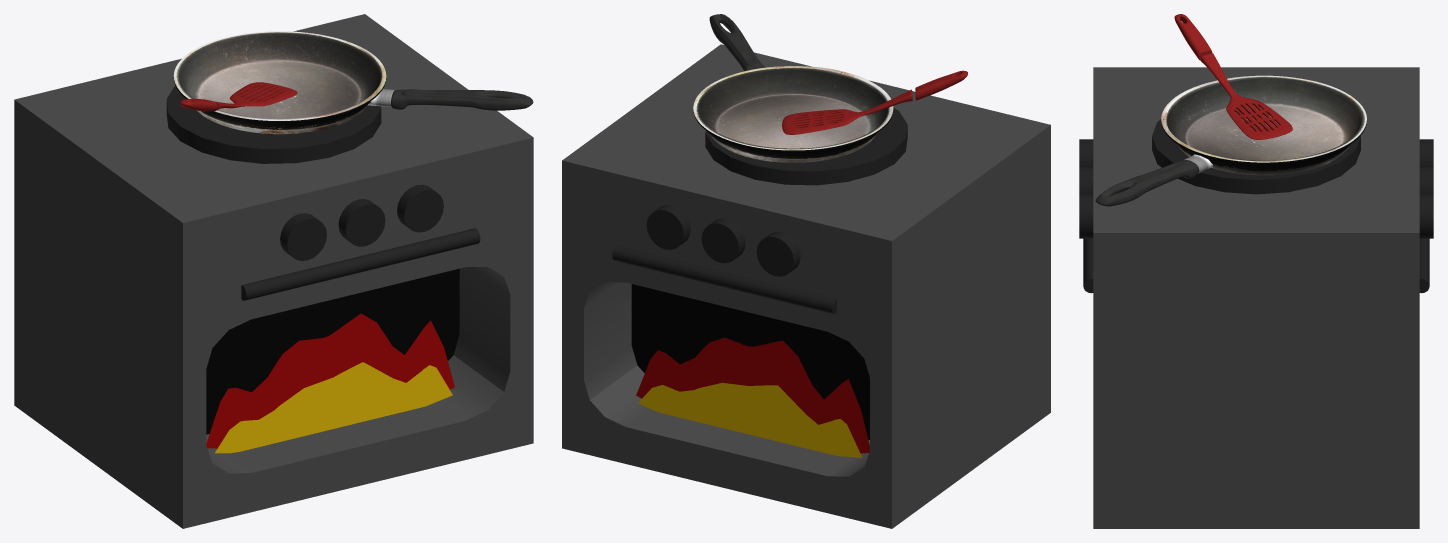
The model's file is fryingstation.fbx.
3 views of the same model, side by side, from view 1: azimuth 30°, elevation 25°; view 2: azimuth 150°, elevation 25°; view 3: azimuth 270°, elevation 25° (orthographic). The views are drawn at different scales.
Visible parts, largest first — view 1: ovenframe, Pan, ovenmiddle, nurbsToPoly3, nurbsToPoly4, hotsurface, handle2, Handle, knob3, knob2, knob6, Main; view 2: ovenframe, Pan, ovenmiddle, nurbsToPoly2, nurbsToPoly1, hotsurface, handle1, Main, knob4, knob5, knob1, Handle; view 3: ovenframe, Pan, hotsurface, Main, Handle, knob3, knob1, handle1, handle2, knob5, knob6, knob2 (+1 smaller).
Boxes of the visible parts, box(x1,y1,x2,y2) form: ovenframe: box(14, 14, 533, 528); Pan: box(173, 31, 386, 134); ovenmiddle: box(206, 268, 459, 434); nurbsToPoly3: box(206, 313, 454, 448); nurbsToPoly4: box(215, 362, 452, 453); hotsurface: box(166, 85, 381, 163); handle2: box(241, 228, 480, 300); Handle: box(391, 89, 533, 110); knob3: box(397, 184, 443, 232); knob2: box(338, 199, 385, 246); knob6: box(280, 213, 326, 260); Main: box(180, 82, 297, 111); ovenframe: box(562, 44, 1050, 528); Pan: box(693, 66, 893, 162); ovenmiddle: box(631, 284, 869, 439); nurbsToPoly2: box(636, 338, 869, 453); nurbsToPoly1: box(638, 382, 862, 457); hotsurface: box(705, 107, 907, 185); handle1: box(612, 246, 836, 314); Main: box(782, 70, 967, 134); knob4: box(701, 218, 745, 263); knob5: box(756, 231, 800, 276); knob1: box(646, 205, 690, 249); Handle: box(709, 14, 765, 71); ovenframe: box(1093, 67, 1419, 528); Pan: box(1161, 75, 1366, 175); hotsurface: box(1152, 119, 1360, 194); Main: box(1174, 14, 1292, 139); Handle: box(1095, 160, 1199, 206); knob3: box(1079, 194, 1093, 238); knob1: box(1419, 194, 1433, 238); handle1: box(1419, 238, 1429, 293); handle2: box(1083, 238, 1093, 293); knob5: box(1419, 139, 1433, 166); knob6: box(1079, 139, 1093, 166); knob2: box(1079, 167, 1093, 194).
Bounding box in the file's own units: 30.45 × 31.3 × 27.15.
